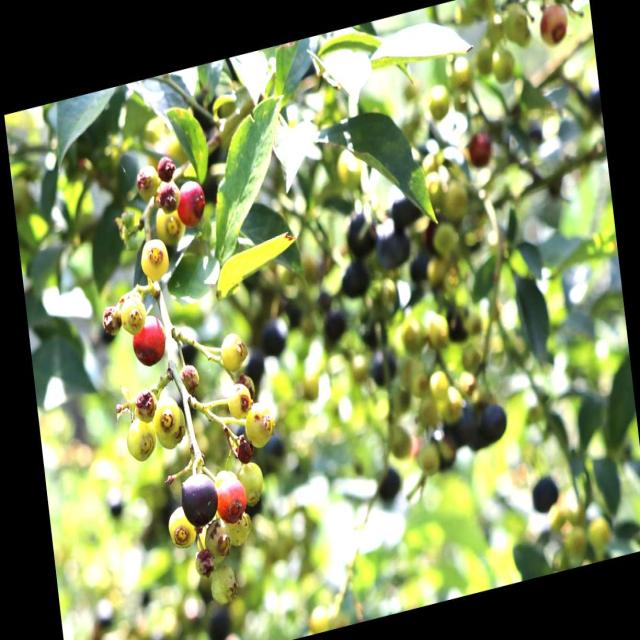blueberry: (174, 466, 220, 528)
blueberry-halfripe: (127, 309, 172, 376), (212, 470, 249, 524), (174, 175, 208, 228)
blueberry-unripe: (165, 497, 201, 552), (125, 410, 158, 464), (242, 398, 275, 448), (138, 235, 172, 283), (206, 559, 239, 605), (151, 392, 183, 439), (203, 515, 232, 565), (154, 201, 186, 244), (237, 456, 265, 504), (118, 290, 146, 337), (218, 330, 245, 372), (226, 380, 252, 420), (224, 512, 251, 544)
